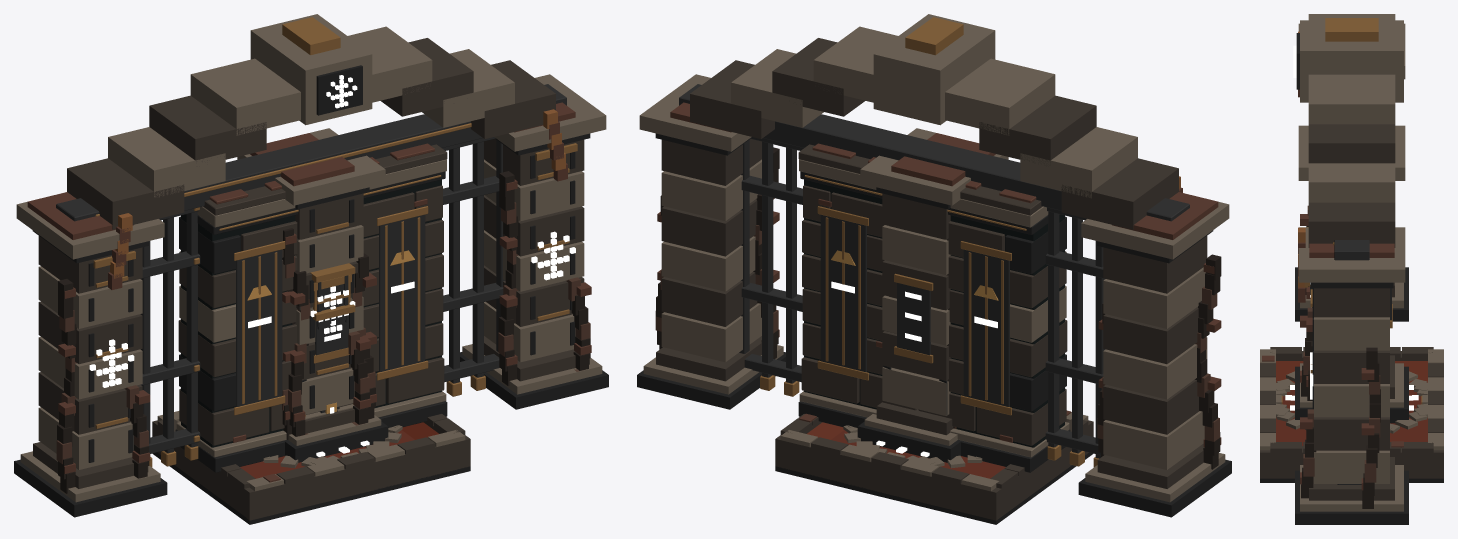
Rendered from cindercrypt-kit.glb.
3 views of the same model, side by side, from view 1: azimuth 30°, elevation 25°; view 2: azimuth 150°, elevation 25°; view 3: azimuth 270°, elevation 25° (orthographic). The views are drawn at different scales.
Visible parts, largest first — view 1: arch-stone, wall-stone, pillar-stone, gate-leaf, pool-stone, gate-stone, guardian-stone, arch-glow, brazier-stone, pool-water; view 2: arch-stone, wall-stone, pillar-stone, gate-leaf, pool-stone, gate-stone, guardian-stone, pool-water; view 3: arch-stone, pool-stone, pillar-stone, pool-water, guardian-stone, checkpoint-stone, gate-stone, seal-stone, arch-glow.
Boxes of the visible parts, x1=… form: arch-stone: x1=14, y1=14, x2=608, y2=517; wall-stone: x1=175, y1=143, x2=447, y2=472; pillar-stone: x1=237, y1=128, x2=387, y2=461; gate-leaf: x1=140, y1=137, x2=504, y2=467; pool-stone: x1=152, y1=411, x2=470, y2=524; gate-stone: x1=56, y1=84, x2=566, y2=221; guardian-stone: x1=285, y1=253, x2=388, y2=462; arch-glow: x1=89, y1=75, x2=575, y2=387; brazier-stone: x1=310, y1=263, x2=355, y2=329; pool-water: x1=240, y1=422, x2=438, y2=478; arch-stone: x1=637, y1=14, x2=1231, y2=517; wall-stone: x1=798, y1=143, x2=1070, y2=472; pillar-stone: x1=857, y1=128, x2=1008, y2=462; gate-leaf: x1=739, y1=137, x2=1105, y2=467; pool-stone: x1=775, y1=410, x2=1093, y2=524; gate-stone: x1=679, y1=84, x2=1189, y2=221; guardian-stone: x1=857, y1=273, x2=960, y2=462; pool-water: x1=807, y1=422, x2=1005, y2=478; arch-stone: x1=1295, y1=14, x2=1408, y2=524; pool-stone: x1=1260, y1=347, x2=1443, y2=482; pillar-stone: x1=1295, y1=125, x2=1408, y2=421; pool-water: x1=1276, y1=361, x2=1427, y2=445; guardian-stone: x1=1295, y1=287, x2=1408, y2=423; checkpoint-stone: x1=1276, y1=371, x2=1427, y2=432; gate-stone: x1=1333, y1=240, x2=1369, y2=484; seal-stone: x1=1276, y1=379, x2=1427, y2=433; arch-glow: x1=1293, y1=45, x2=1313, y2=399.
Bounding box in the file's own units: 9.2 × 7.1 × 2.9.
